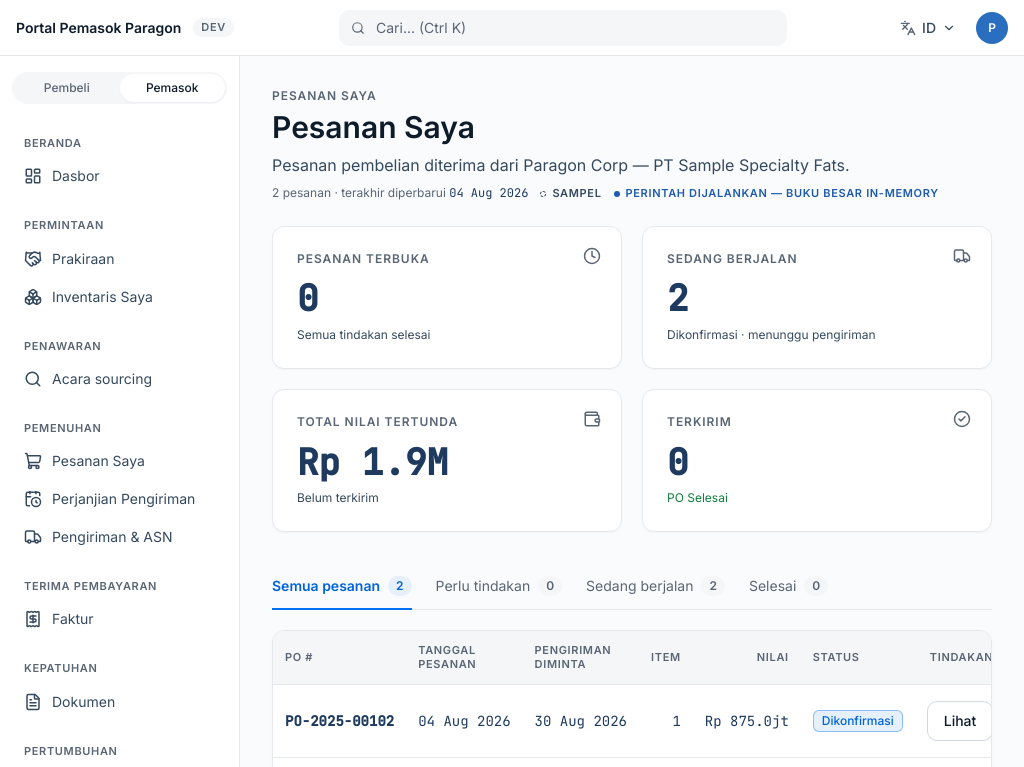
Test case: E2E-2 · the order shows what was received [id] › the SUPPLIER reads the same block on the same order, and is not offered a ship notice
The image size is (1024, 767).
Click the button "Lihat" at (960, 721), box [927,701,993,741]
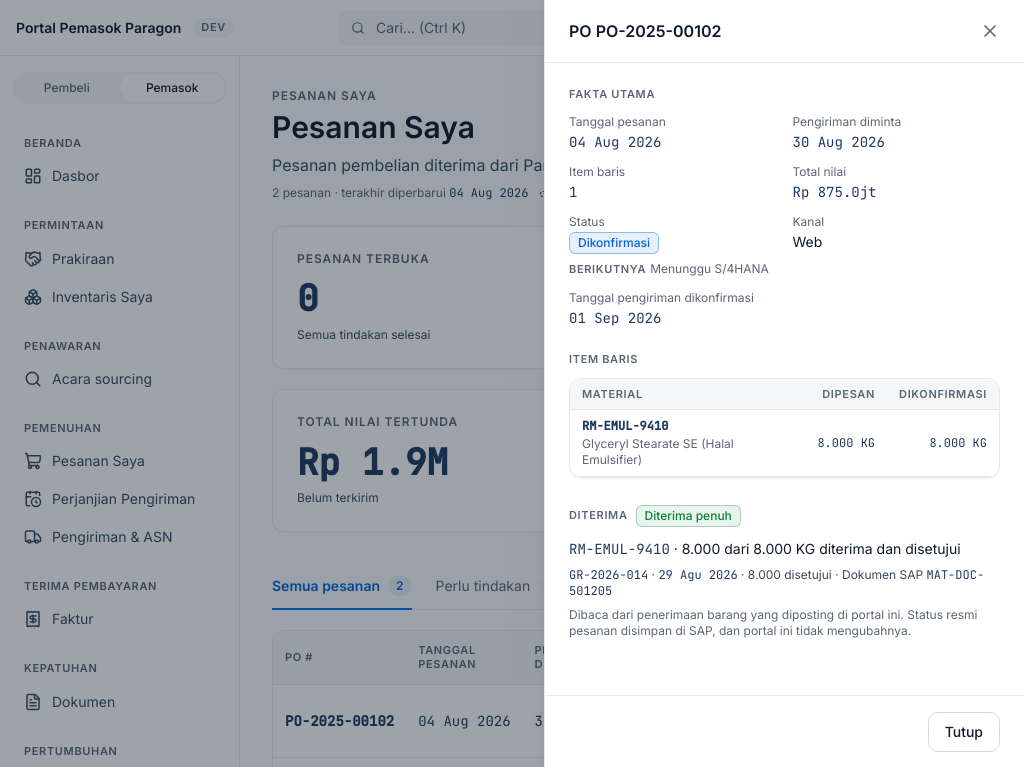
Check: the element with test id "supplier-order-received-full" reads "Diterima penuh", box [645,508,732,523]
Check: the text with test id "supplier-order-received-sap-note" shows "Dibaca dari penerimaan barang yang diposting di portal ini. Status resmi pesanan disimpan di SAP, dan portal ini tidak mengubahnya.", box [569,607,977,638]
